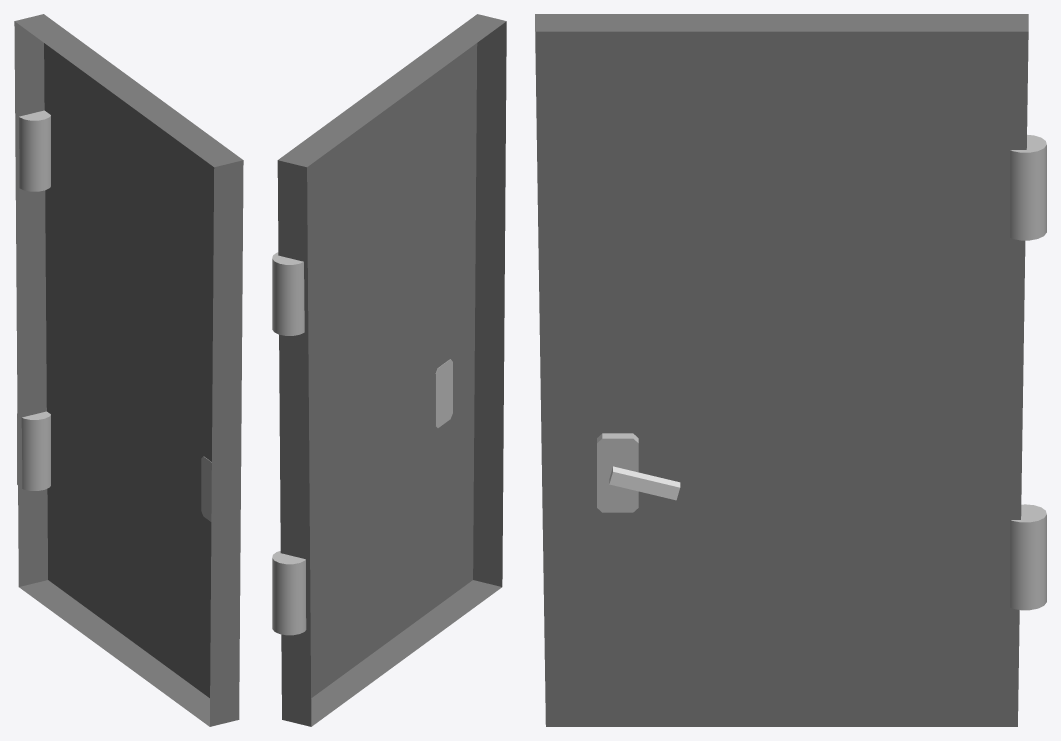
File: Tavern (door 2).fbx
3 views of the same model, side by side, from view 1: azimuth 30°, elevation 25°; view 2: azimuth 150°, elevation 25°; view 3: azimuth 270°, elevation 25° (orthographic). The views are drawn at different scales.
Parts seen in each view (by area): view 1: Tavern (door 2); view 2: Tavern (door 2); view 3: Tavern (door 2).
Boxes of the visible parts, <box> form: Tavern (door 2): <box>14,14,243,726</box>; Tavern (door 2): <box>272,14,506,726</box>; Tavern (door 2): <box>535,14,1046,726</box>.
Bounding box in the file's own units: 42.4 × 482 × 321.
